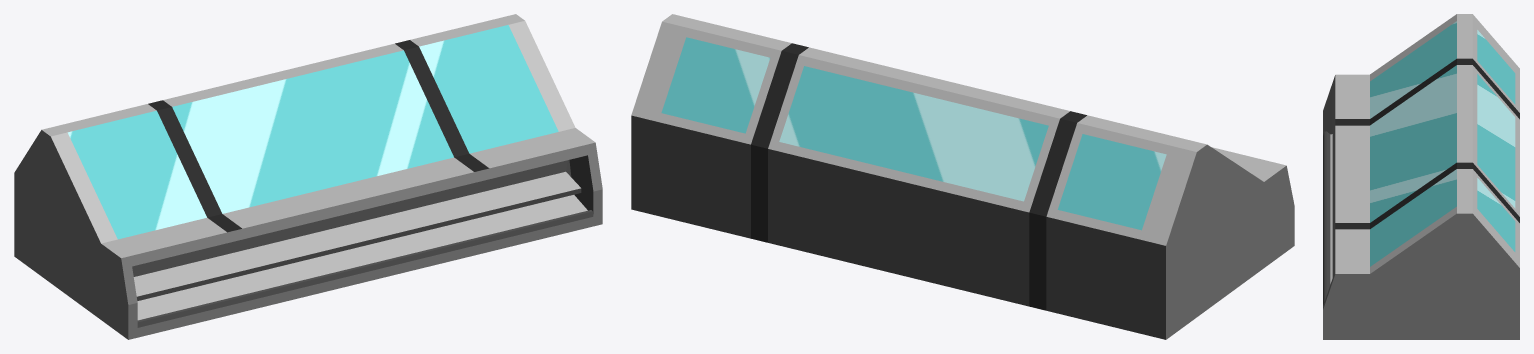
Rendered from RawFoodShelf.fbx.
3 renders of one model, left to right at view 1: azimuth 30°, elevation 25°; view 2: azimuth 150°, elevation 25°; view 3: azimuth 270°, elevation 25°, orthographic. The views are drawn at different scales.
Parts seen in each view (by area): view 1: RawFoodShelf; view 2: RawFoodShelf; view 3: RawFoodShelf.
Boxes of the visible parts, x1=… form: RawFoodShelf: x1=14, y1=14, x2=602, y2=339; RawFoodShelf: x1=631, y1=14, x2=1294, y2=339; RawFoodShelf: x1=1323, y1=14, x2=1519, y2=339.
Bounding box in the file's own units: 240 × 70.9 × 100.
